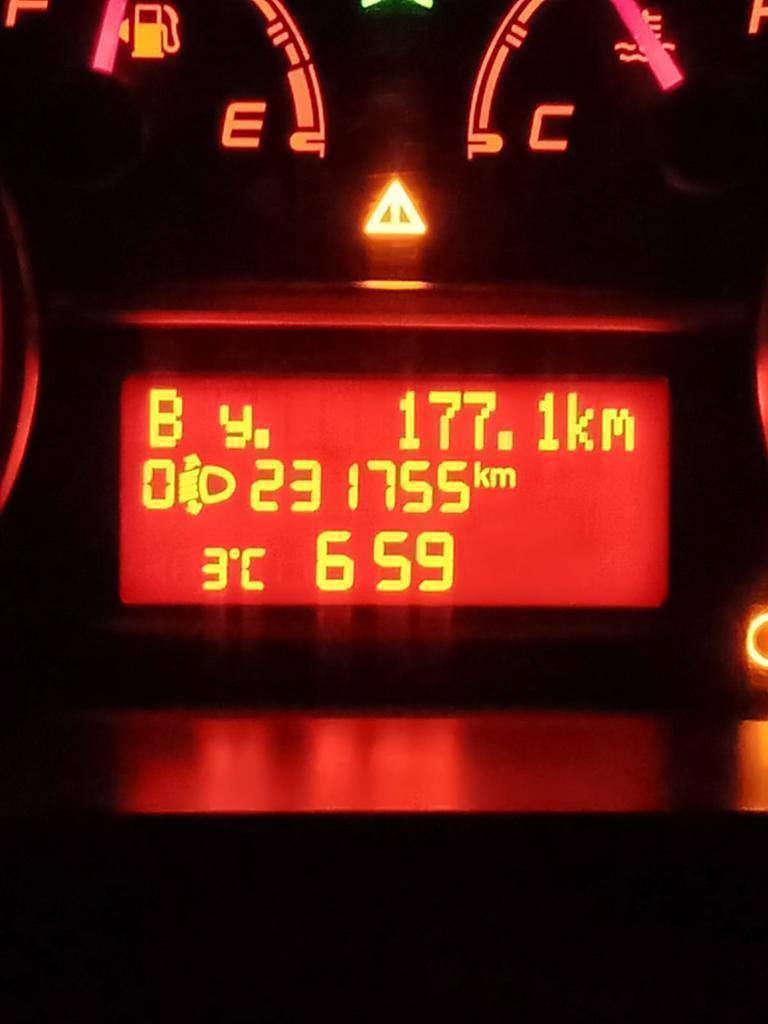,: (496, 429, 514, 451), (253, 428, 270, 449)
0: (140, 457, 176, 510)
1: (397, 389, 421, 450), (536, 391, 560, 451), (345, 461, 360, 512)
2: (248, 458, 285, 513)
3: (288, 458, 322, 512), (199, 546, 228, 591)
5: (371, 530, 412, 592), (398, 459, 434, 513), (436, 460, 471, 513)
6: (314, 529, 355, 591)
7: (426, 390, 462, 450), (462, 390, 497, 451), (365, 459, 396, 512)
9: (414, 530, 455, 592)
X: (147, 387, 183, 449), (565, 391, 595, 452), (599, 407, 636, 453), (218, 403, 254, 450), (239, 546, 266, 592), (490, 466, 516, 489), (473, 460, 490, 488)
odometer: (113, 366, 675, 614)
